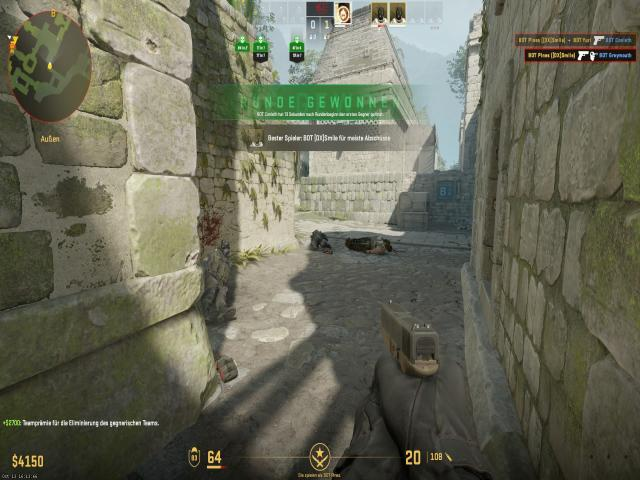Dead: (200, 237, 233, 329), (305, 221, 331, 253), (348, 240, 390, 259), (350, 230, 392, 244)
